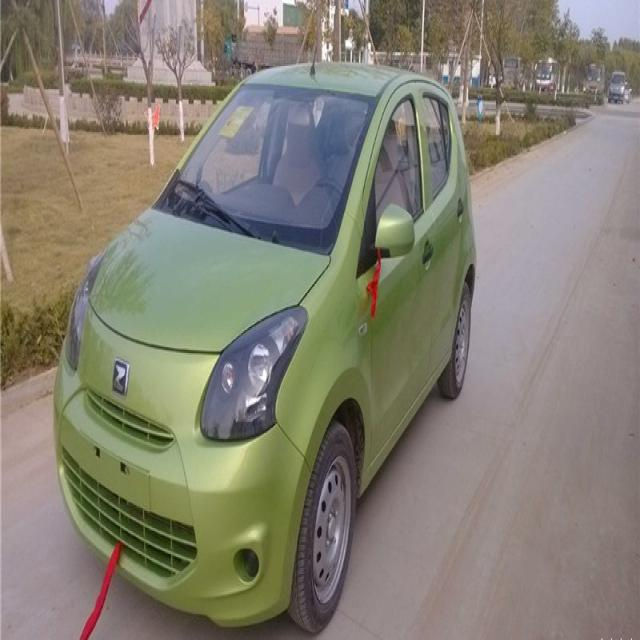front_bumper: (53, 336, 313, 632)
front_glass: (152, 86, 373, 261)
front_left_side_light: (199, 301, 310, 445)
front_left_side_mirror: (373, 206, 416, 259)
front_right_side_door: (364, 80, 436, 474)
front_right_side_light: (58, 250, 105, 373)
wheel: (284, 420, 358, 631), (438, 287, 472, 398)
